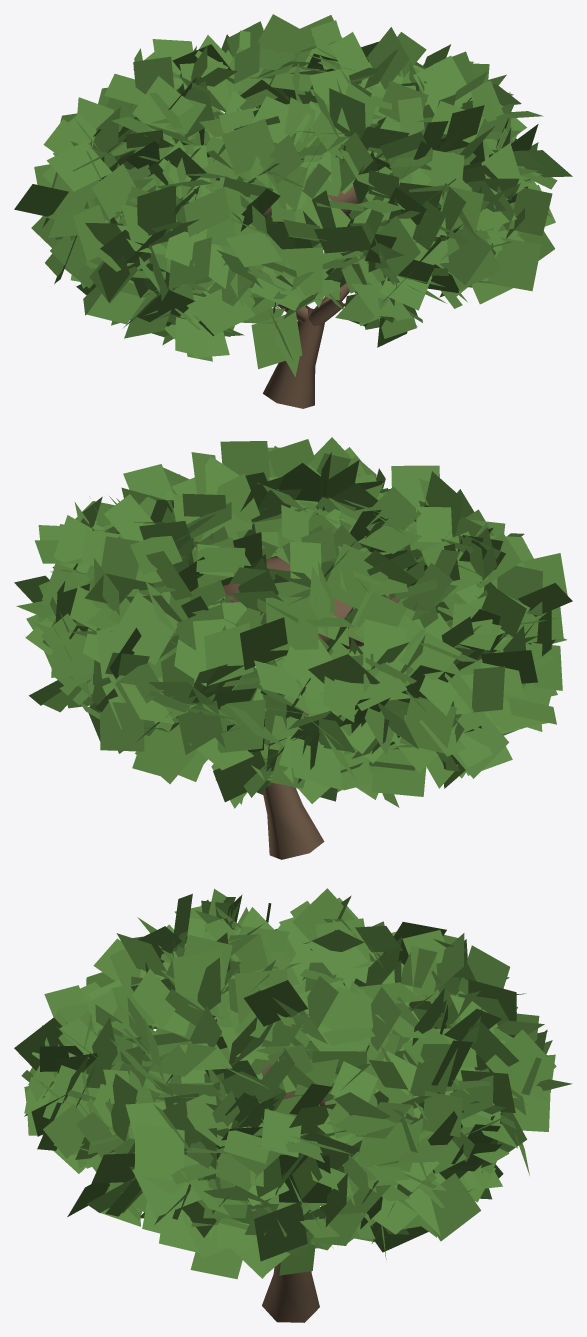
File: foliage-garden-tree-light.glb
3 renders of one model, top to bottom at view 1: azimuth 30°, elevation 25°; view 2: azimuth 150°, elevation 25°; view 3: azimuth 270°, elevation 25°, orthographic. The views are drawn at different scales.
Visible parts, largest first — view 1: leaves, bark; view 2: leaves, bark; view 3: leaves, bark.
Boxes of the visible parts, x1,y1,x2,y2 form: leaves: [14, 14, 572, 376]; bark: [217, 178, 365, 408]; leaves: [14, 437, 572, 808]; bark: [223, 556, 399, 859]; leaves: [14, 888, 572, 1279]; bark: [215, 1019, 333, 1322].
Bounding box in the file's own units: 7.68 × 5.48 × 7.19.
